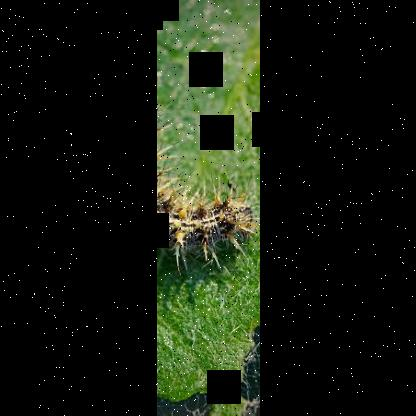oruga: (156, 100, 260, 276)
